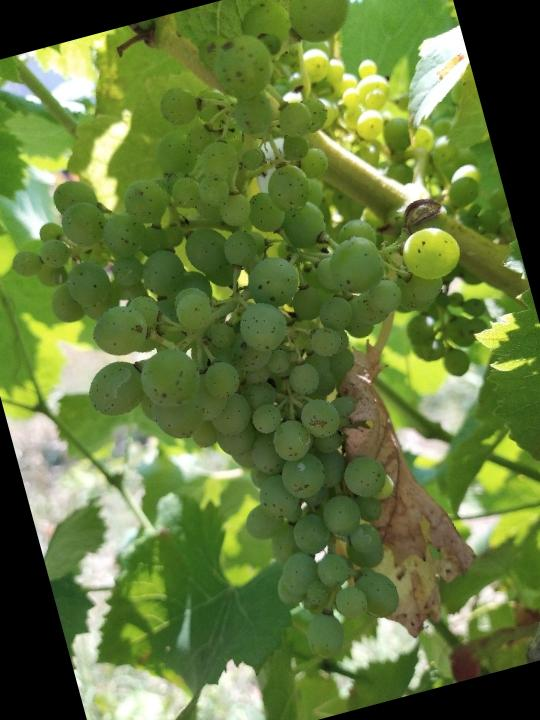grape: (0, 0, 540, 719)
